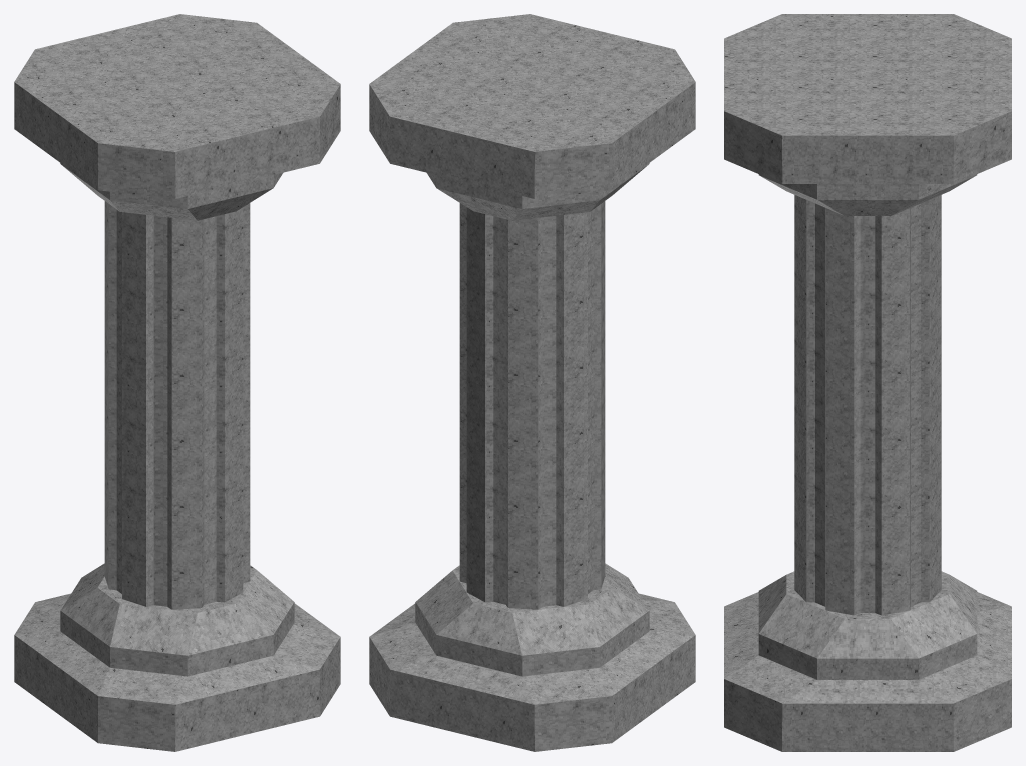
The model's file is Pillar.fbx.
3 renders of one model, left to right at view 1: azimuth 30°, elevation 25°; view 2: azimuth 150°, elevation 25°; view 3: azimuth 270°, elevation 25°, orthographic. The views are drawn at different scales.
Parts seen in each view (by area): view 1: Cylinder.004; view 2: Cylinder.004; view 3: Cylinder.004.
Part boxes in pixels (x1,y1,x2,y2): Cylinder.004: (14,14,340,751); Cylinder.004: (369,14,695,751); Cylinder.004: (724,14,1011,751).
Size of the model in its own units: 127 by 299 by 127.
